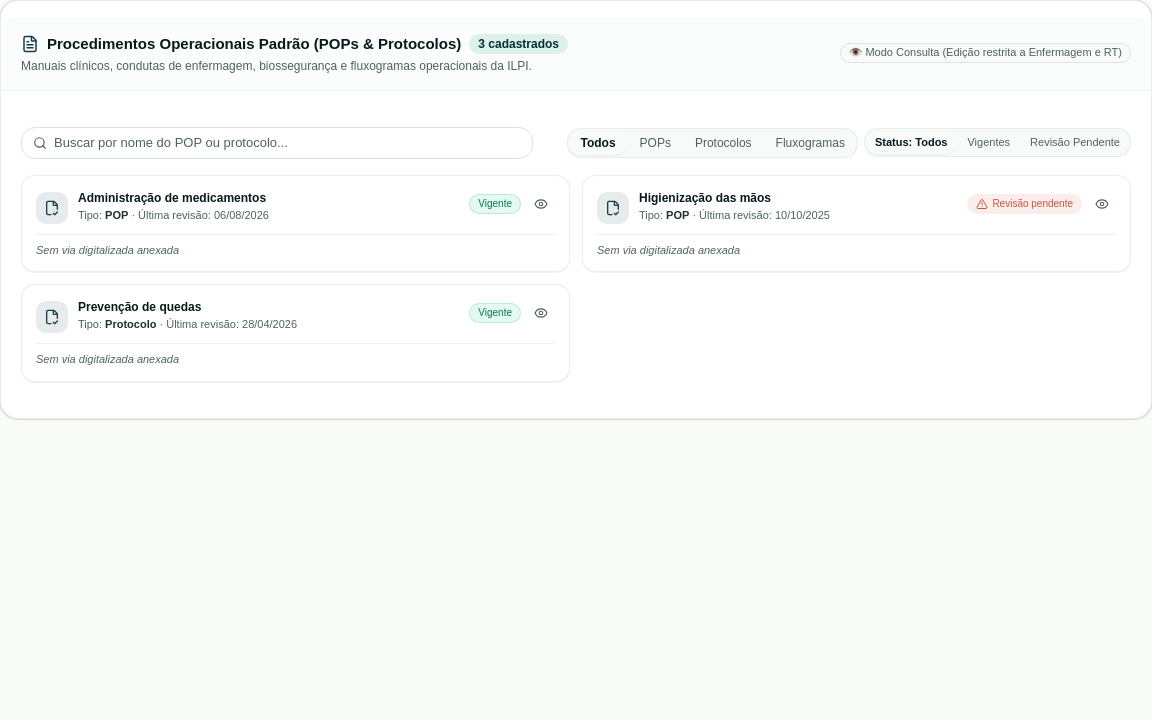
Test: SecaoPops Component (POPs & Protocolos) › permite que qualquer profissional (ex: cuidador) visualize todos os POPs e abra o procedimento
The image size is (1152, 720).
Check: the text "Administração de medicamentos" is shown, box [78,190,269,206]
Check: the text "Prevenção de quedas" is shown, box [78,300,201,314]
Cuidador pode clicar em um POP para ler o procedimento
Click the text "Higienização das mãos": (705, 198) [639,190,771,204]
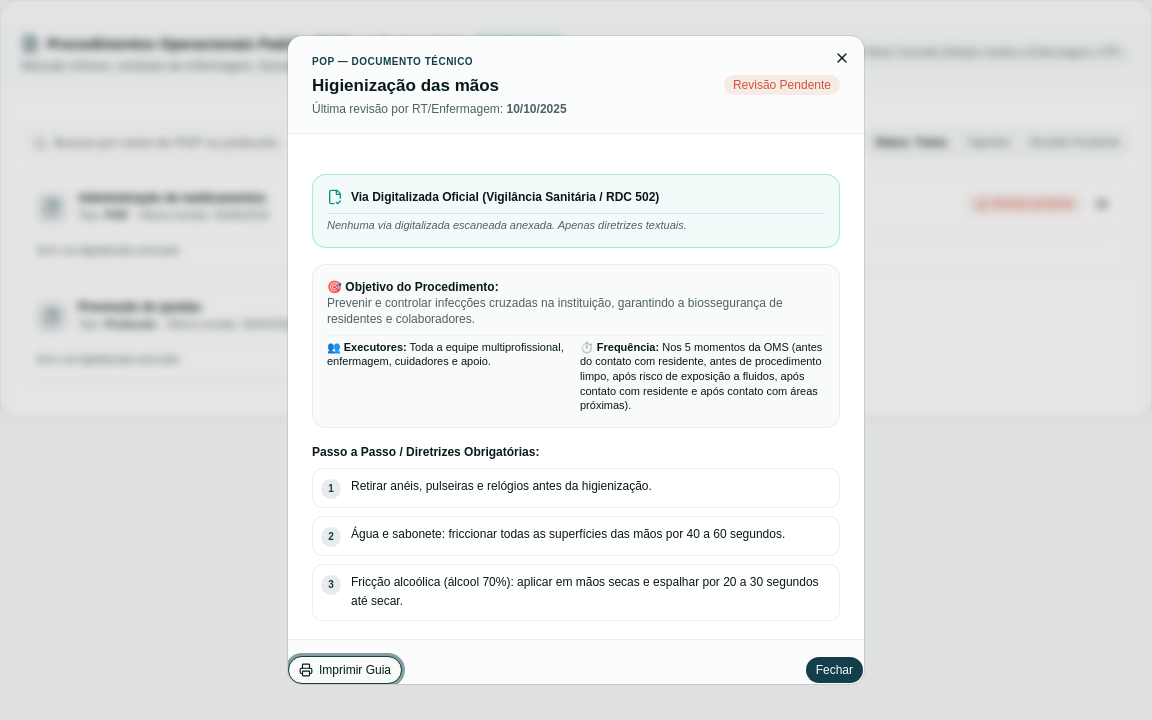
Check: the text "🎯 Objetivo do Procedimento:" is shown, box [327,280,499,294]
Check: the text "Prevenir e controlar infecções cruzadas" is shown, box [327,296,783,326]
